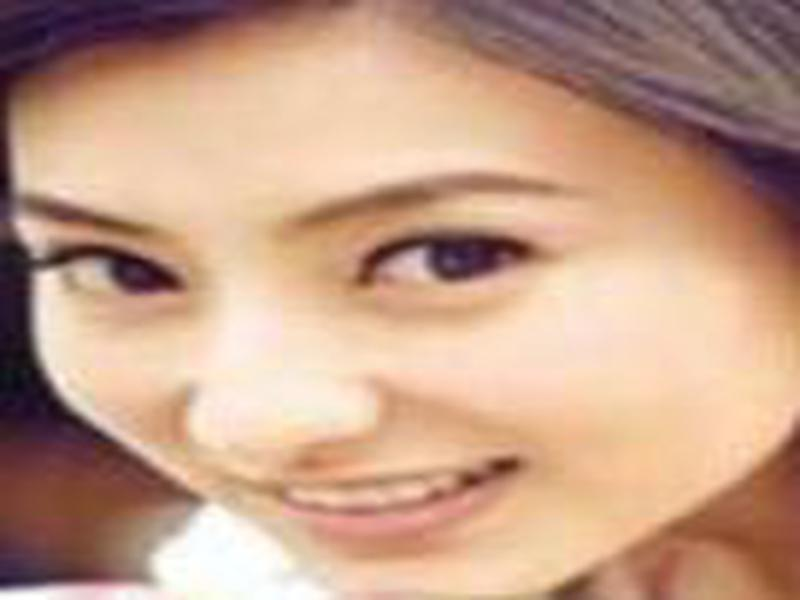without_mask: (6, 42, 799, 593)
